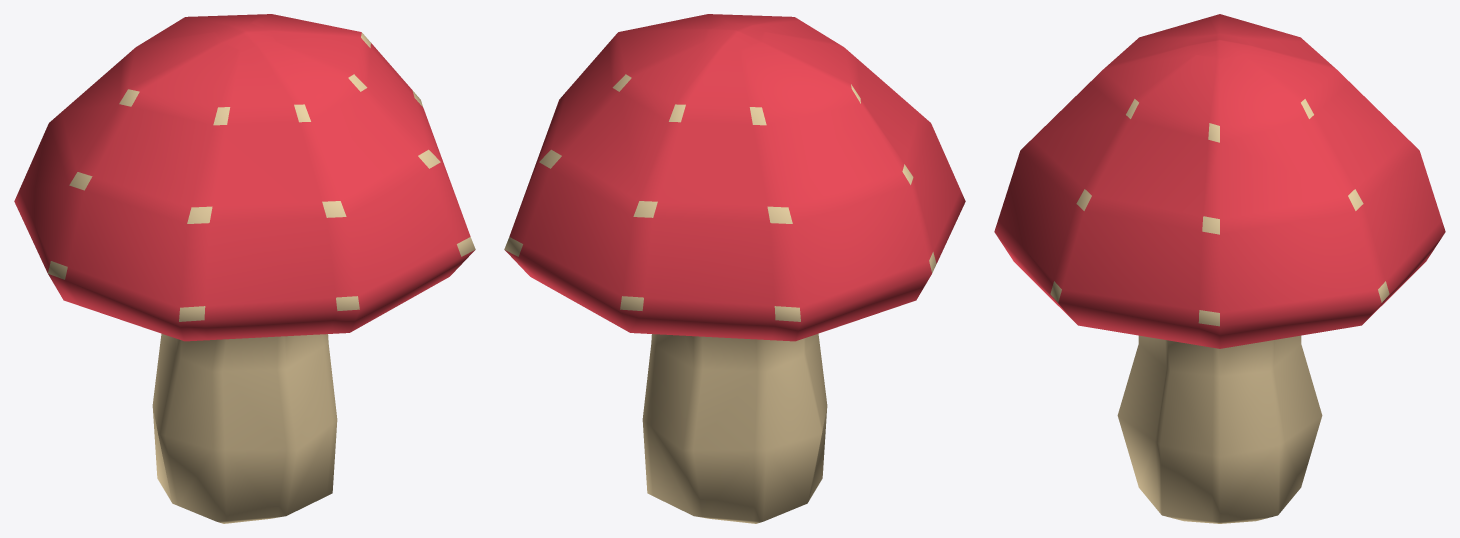
Rendered from VR.fbx_hongo_1.fbx.
The picture shows the model from 3 angles, left to right: view 1: azimuth 30°, elevation 25°; view 2: azimuth 150°, elevation 25°; view 3: azimuth 270°, elevation 25°; orthographic projection.
Visible parts, largest first — view 1: hongo 1; view 2: hongo 1; view 3: hongo 1.
Part boxes in pixels (x1,y1,x2,y2): hongo 1: (14, 14, 475, 523); hongo 1: (504, 14, 965, 523); hongo 1: (994, 14, 1445, 523).
Bounding box in the file's own units: 19.07 × 21.72 × 19.24.
